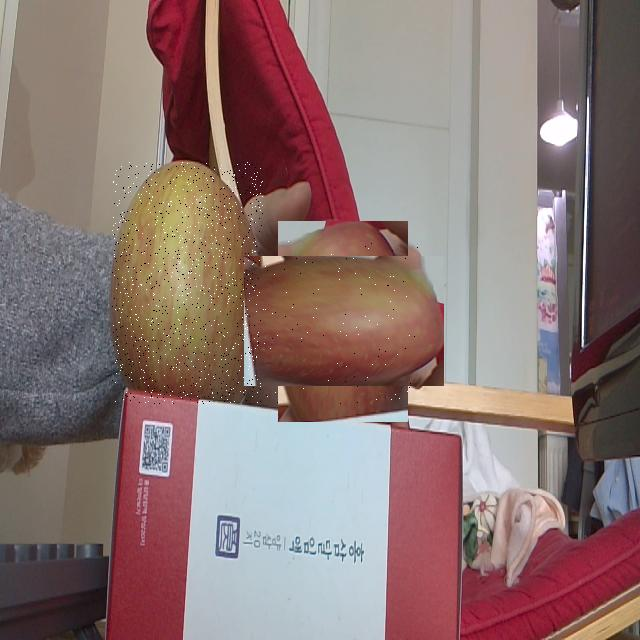apple: (112, 162, 263, 404), (261, 239, 426, 404)
